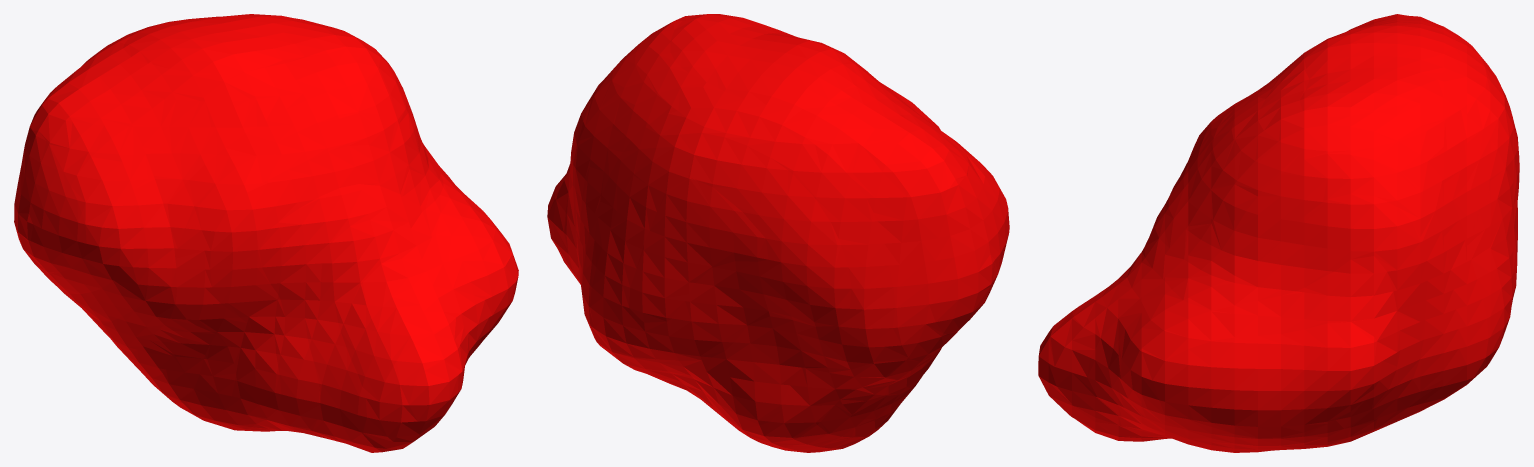
Rendered from yjbJ_coarse.dae.
The picture shows the model from 3 angles, left to right: view 1: azimuth 30°, elevation 25°; view 2: azimuth 150°, elevation 25°; view 3: azimuth 270°, elevation 25°; orthographic projection. The views are drawn at different scales.
Parts seen in each view (by area): view 1: yjbJ; view 2: yjbJ; view 3: yjbJ.
Boxes of the visible parts, x1=… form: yjbJ: x1=14, y1=14, x2=518, y2=452; yjbJ: x1=547, y1=14, x2=1009, y2=452; yjbJ: x1=1038, y1=14, x2=1519, y2=452.
Size of the model in its own units: 35.47 by 30.46 by 33.85.
